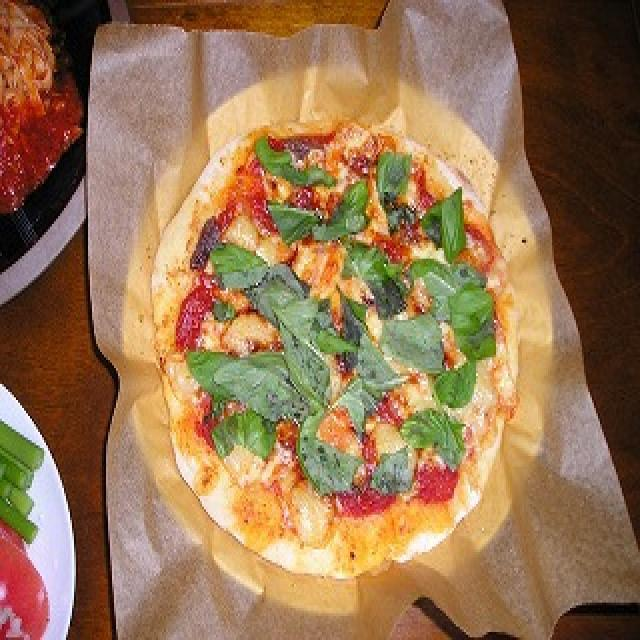Pizza: (142, 104, 531, 574)
